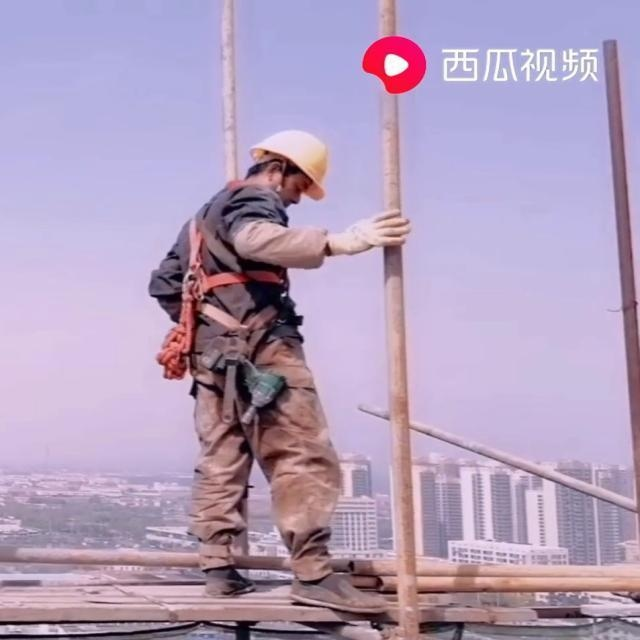Arnes_seguridad: (165, 176, 295, 318)
